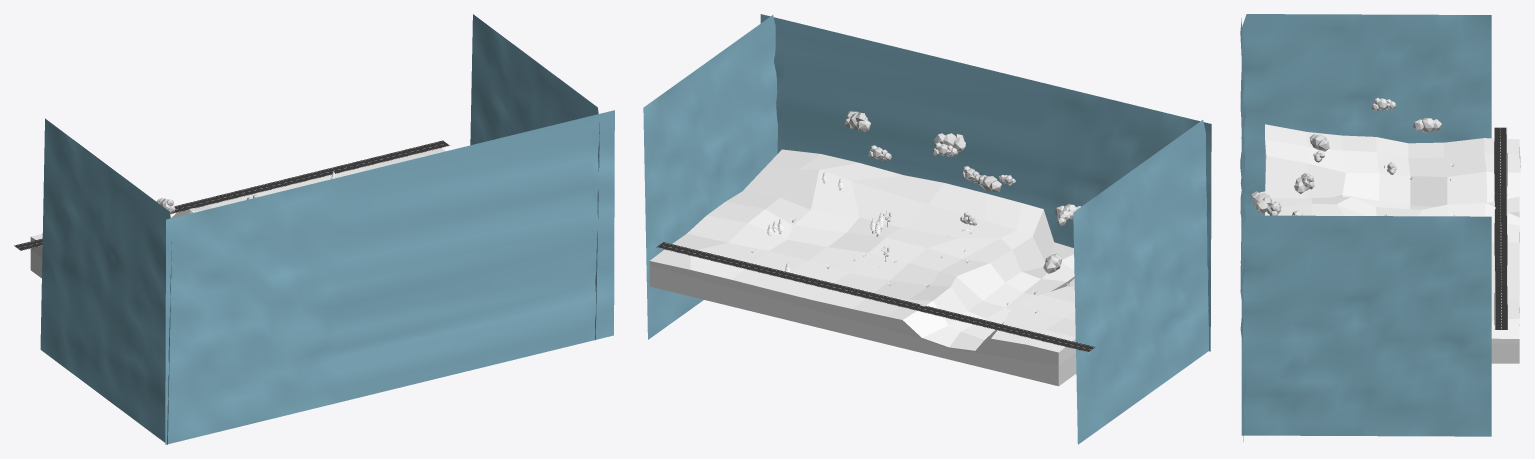
The model's file is campus.glb.
3 renders of one model, left to right at view 1: azimuth 30°, elevation 25°; view 2: azimuth 150°, elevation 25°; view 3: azimuth 270°, elevation 25°, orthographic. The views are drawn at different scales.
Visible parts, largest first — view 1: Plane, Plane.001, Plane.005, Ground, Plane.002, Plane.003; view 2: Ground, Plane, Plane.001, Plane.005, Plane.002, Plane.003, Plane.004; view 3: Plane.005, Plane.001, Ground, Plane, Plane.002, Plane.003, Plane.004, Cloud_4, Cloud_1.003.
Boxes of the visible parts, x1,y1,x2,y2 form: Plane: (165, 110, 614, 444); Plane.001: (40, 118, 171, 444); Plane.005: (470, 14, 599, 339); Ground: (30, 148, 445, 278); Plane.002: (299, 140, 449, 180); Plane.003: (170, 176, 305, 214); Ground: (649, 149, 1076, 386); Plane: (760, 14, 1211, 351); Plane.001: (1073, 120, 1208, 444); Plane.005: (643, 15, 777, 339); Plane.002: (656, 242, 808, 282); Plane.003: (802, 277, 954, 317); Plane.004: (943, 311, 1094, 352); Plane.005: (1241, 215, 1491, 436); Plane.001: (1241, 14, 1491, 217); Ground: (1265, 124, 1520, 363); Plane: (1240, 18, 1245, 441); Plane.002: (1494, 261, 1507, 329); Plane.003: (1494, 193, 1507, 261); Plane.004: (1494, 127, 1507, 195); Cloud_4: (1251, 191, 1272, 213); Cloud_1.003: (1413, 118, 1441, 132).
Size of the model in its own units: 597 by 284 by 324.
